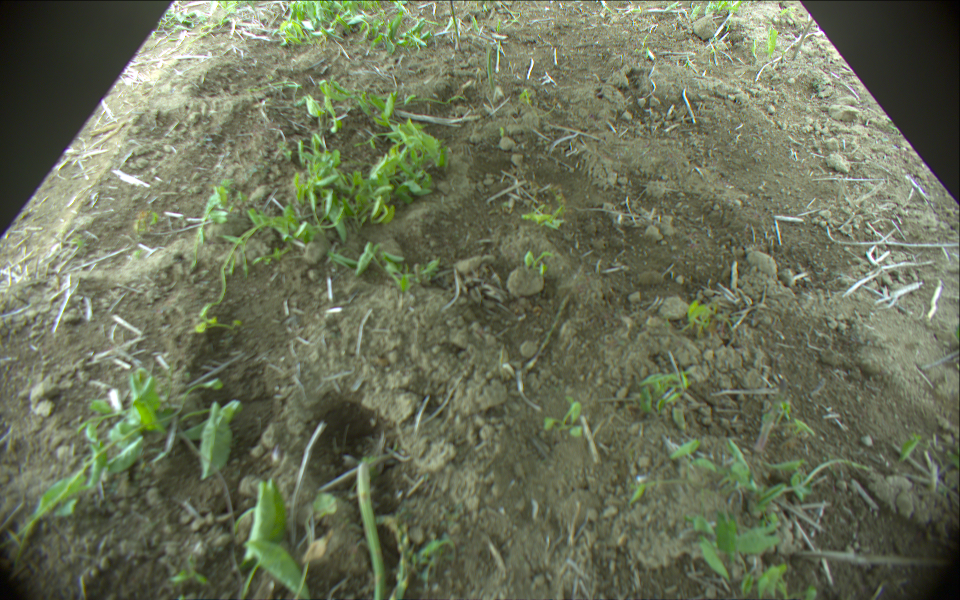aspa: (357, 462, 384, 600), (380, 511, 413, 600), (791, 17, 815, 60)
